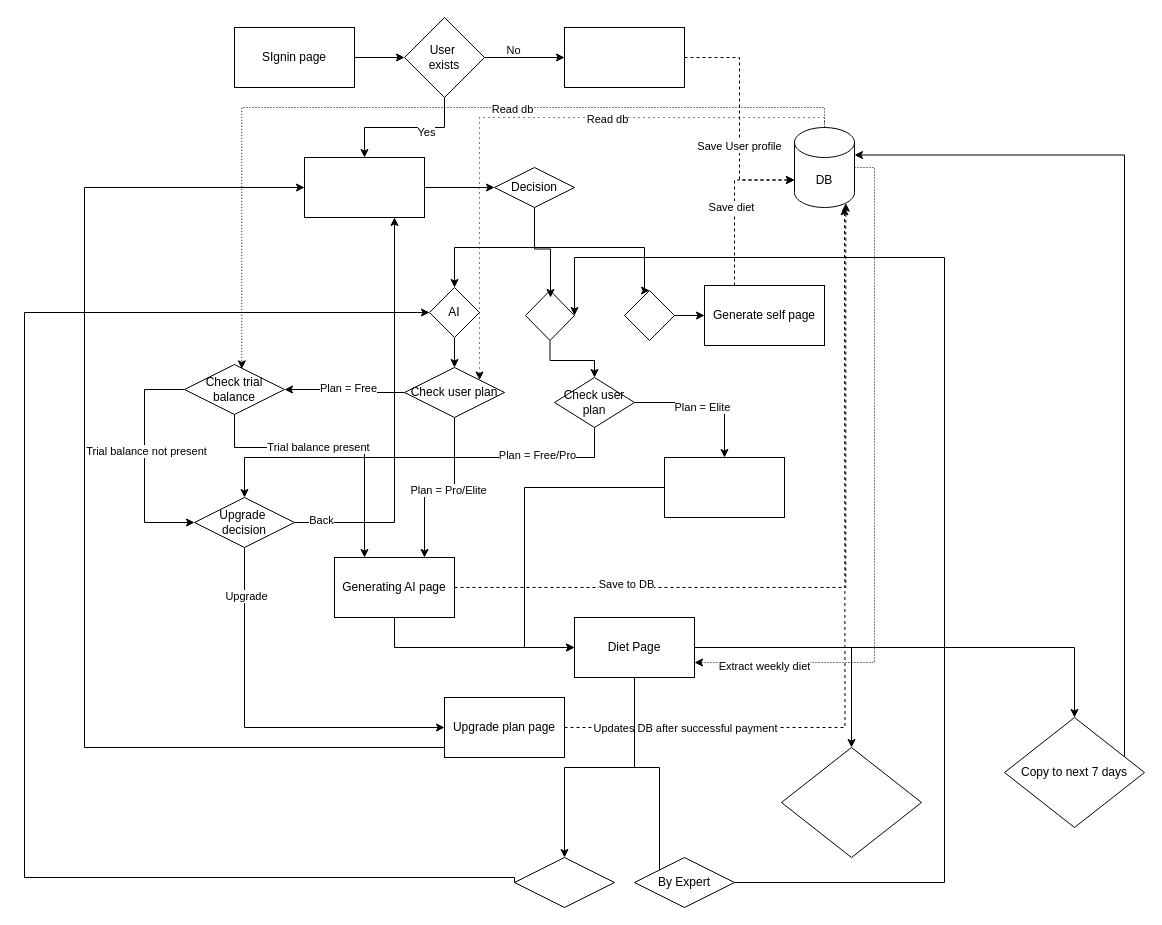
This 1162x925 diagram has some shape labels left out. The shapes that lost their labels are listed below. From the top down, each one's centre as x and y in pixels, then its label:
the point at 624,57: User profile page
the point at 364,187: Generate Diet page
the point at 549,315: Expert
the point at 649,315: Self
the point at 724,487: Nutritionist page
the point at 851,802: Whatsapp reminder page
the point at 564,882: Generate by AI
